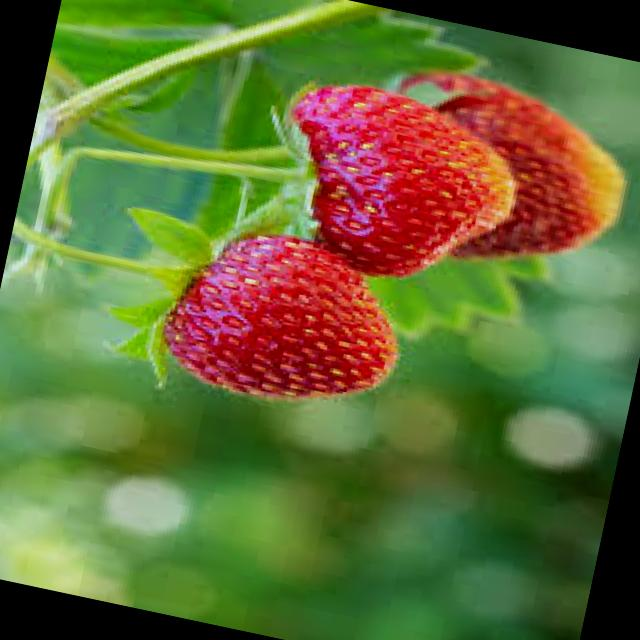strawberry: (110, 200, 420, 427), (240, 78, 511, 296)
